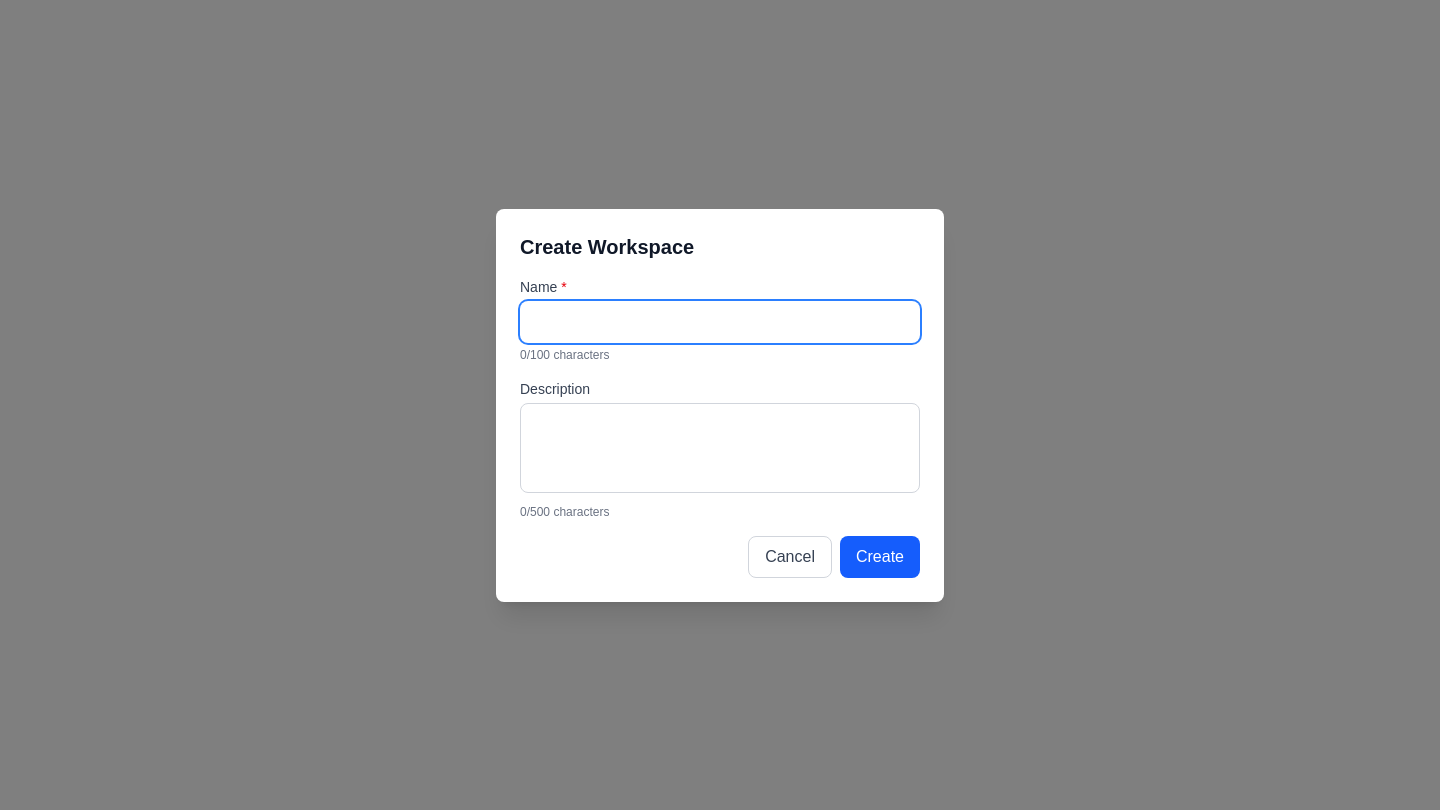
it: WorkspaceCreateModal › Form Validation › should show error when name is empty
Click the button "Create": (880, 556) [840,536,920,578]
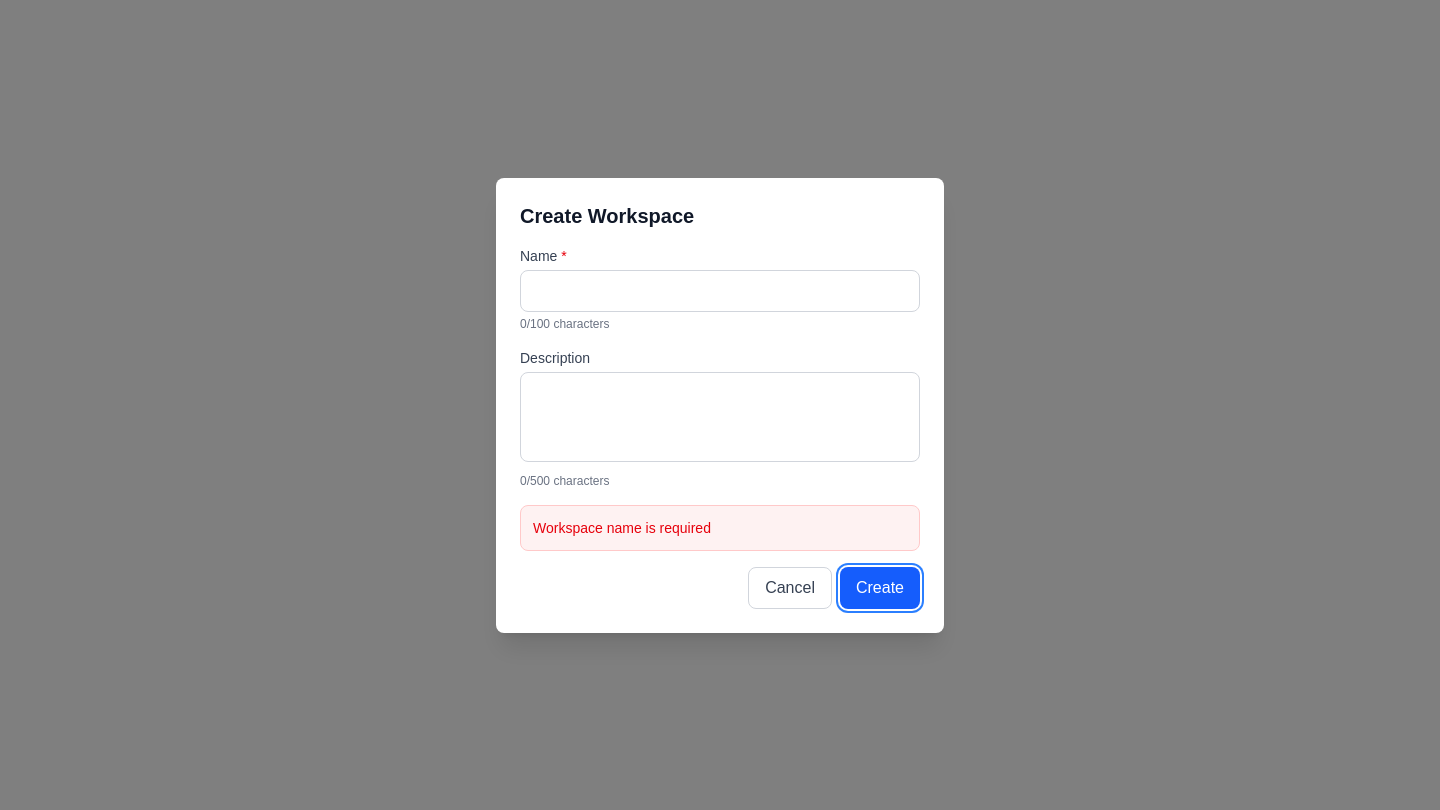
Now the text "Workspace name is required" is shown, box [533,520,711,536]
